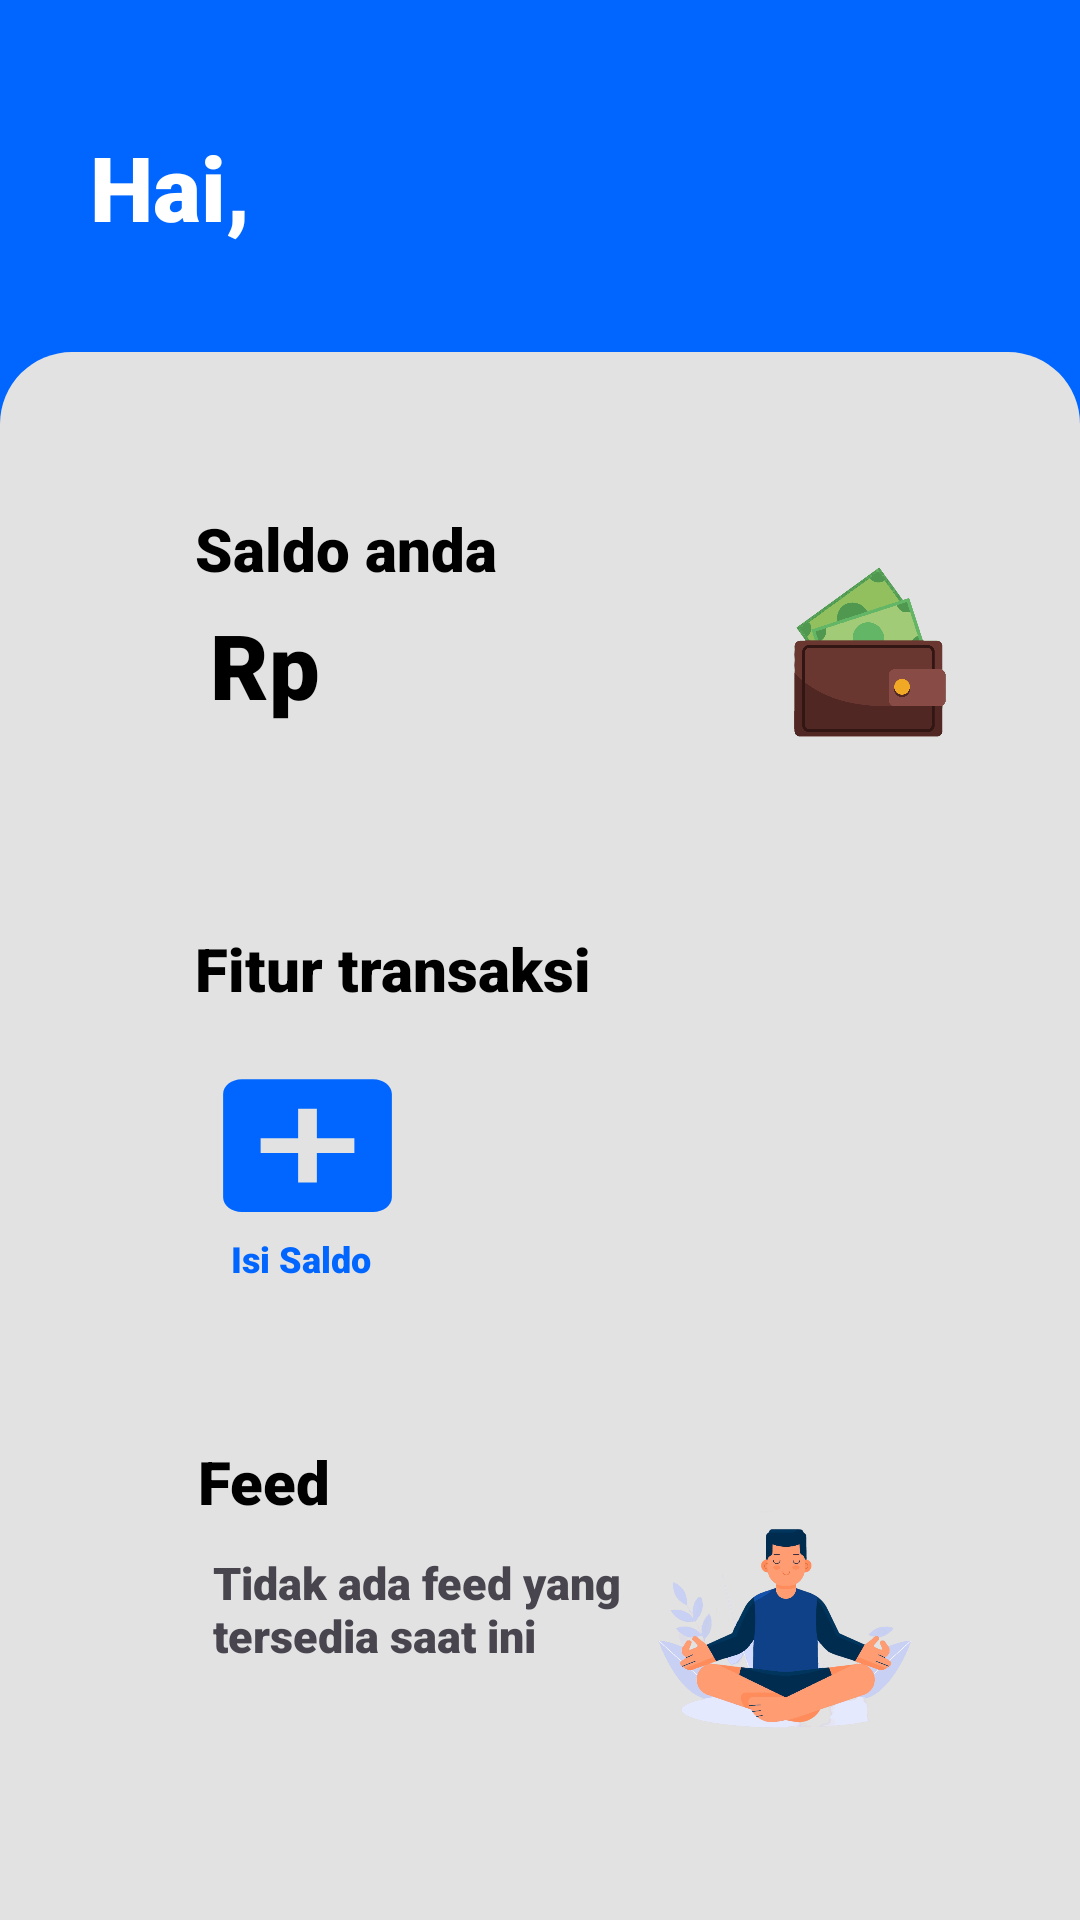

Locate icon controls on the screen. Image size 1080 × 1920, boxes as bbox=(x1, y1, x2, y2).
saldo: bbox=(794, 568, 946, 737)
